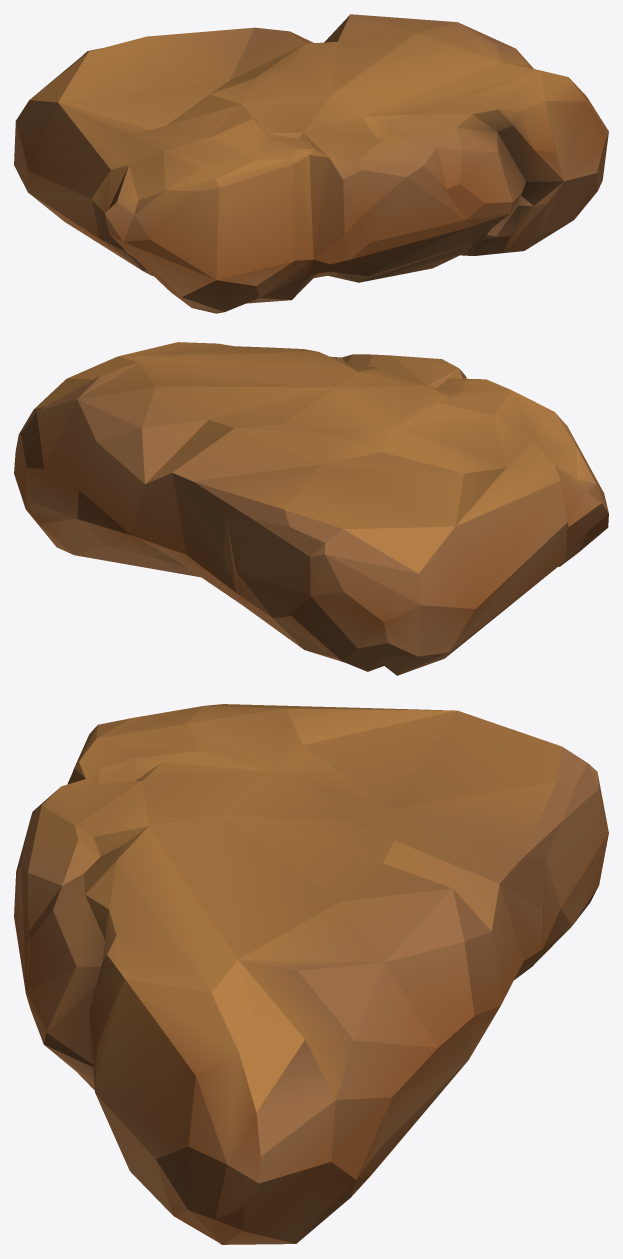
File: rockV2--1.fbx
3 renders of one model, top to bottom at view 1: azimuth 30°, elevation 25°; view 2: azimuth 150°, elevation 25°; view 3: azimuth 270°, elevation 25°, orthographic. The views are drawn at different scales.
Parts seen in each view (by area): view 1: rock_retopo; view 2: rock_retopo; view 3: rock_retopo.
Boxes of the visible parts, x1=… form: rock_retopo: x1=14, y1=14, x2=608, y2=313; rock_retopo: x1=14, y1=342, x2=608, y2=675; rock_retopo: x1=14, y1=704, x2=608, y2=1244.
Bounding box in the file's own units: 451 × 167 × 311.
